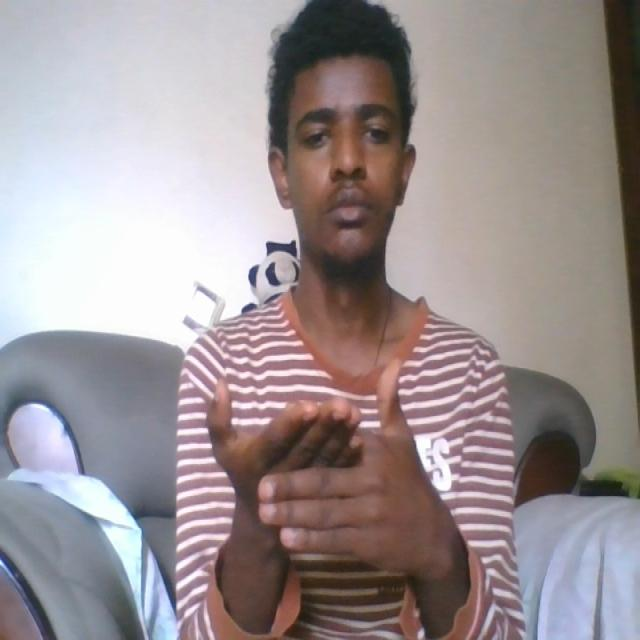sga: (210, 381, 417, 579)
